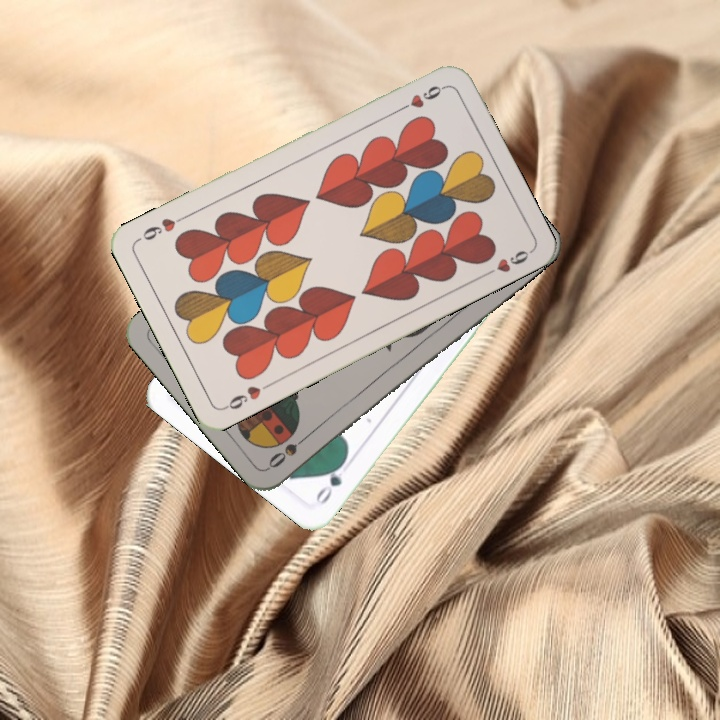GO: (311, 455, 349, 507)
H9: (393, 81, 448, 115), (219, 379, 274, 412)
SO: (264, 428, 314, 471)
